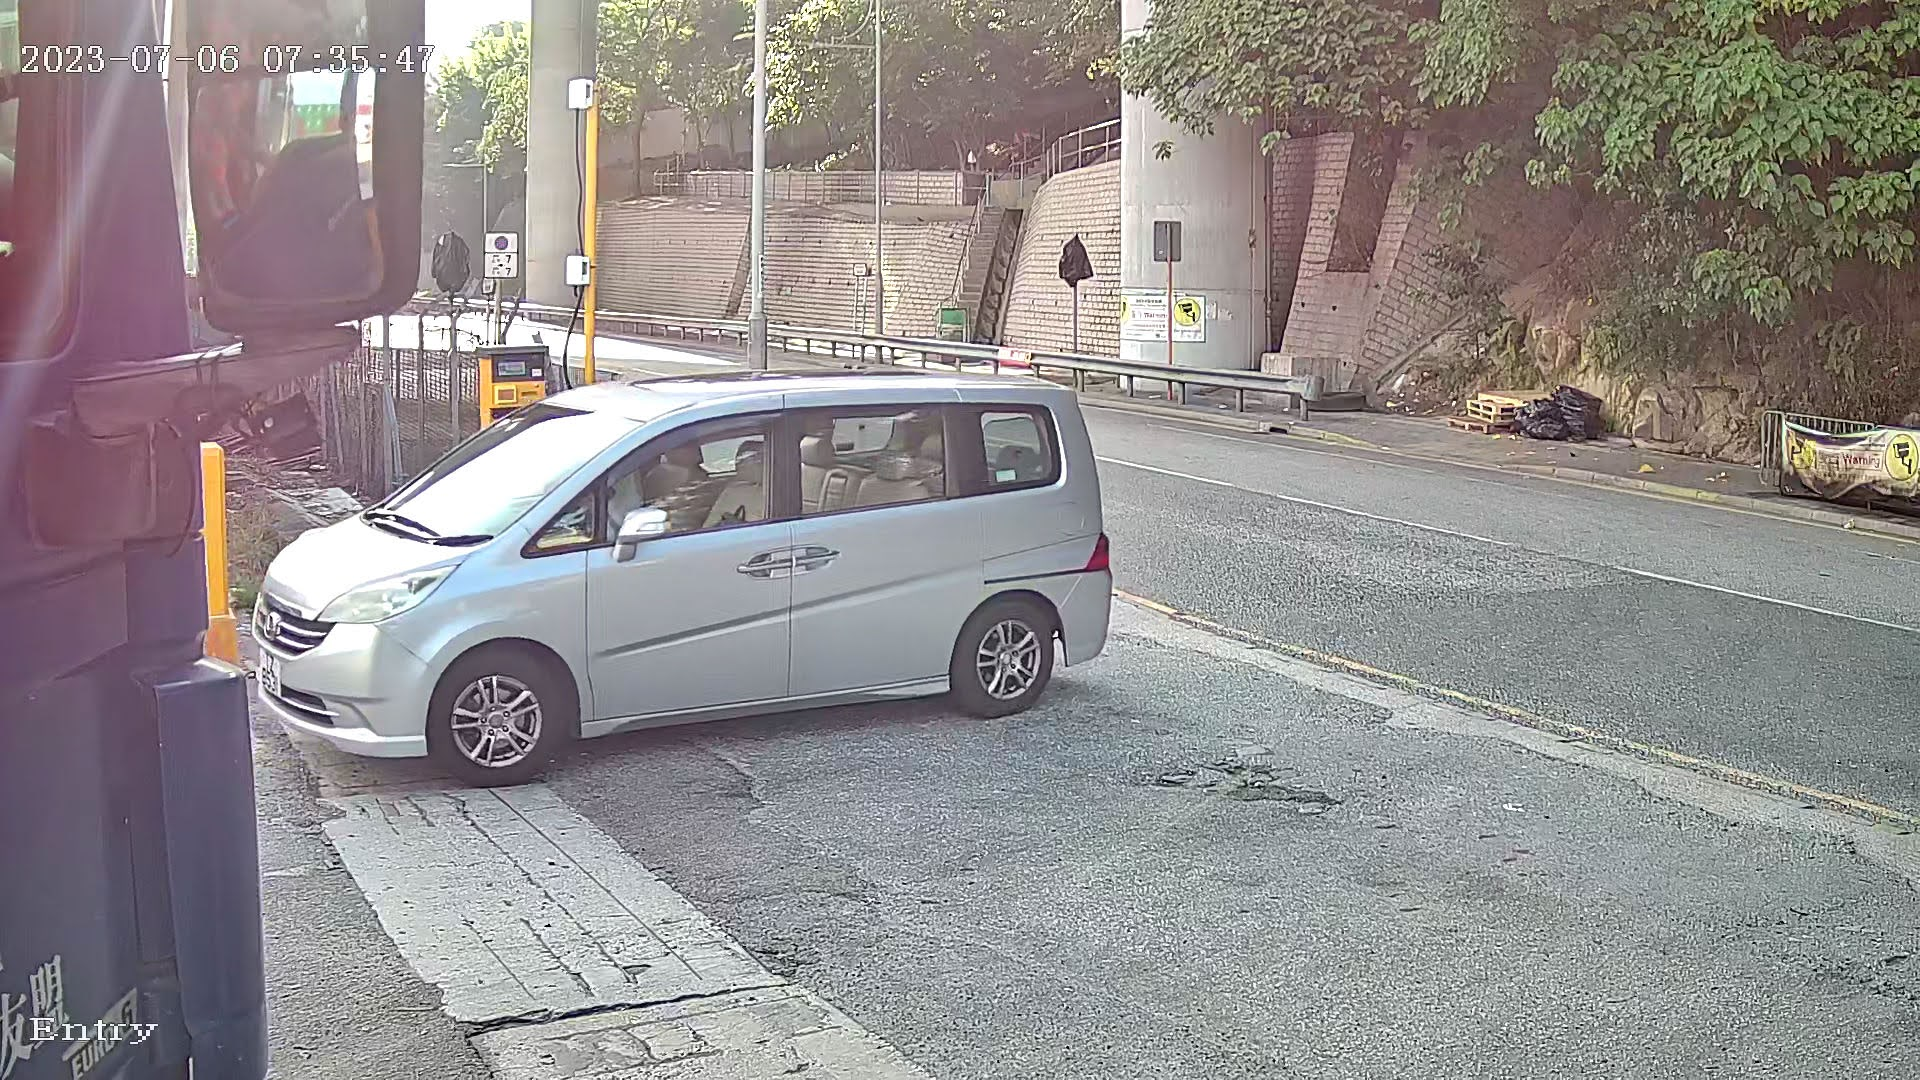privatecar: (200, 348, 1188, 848)
